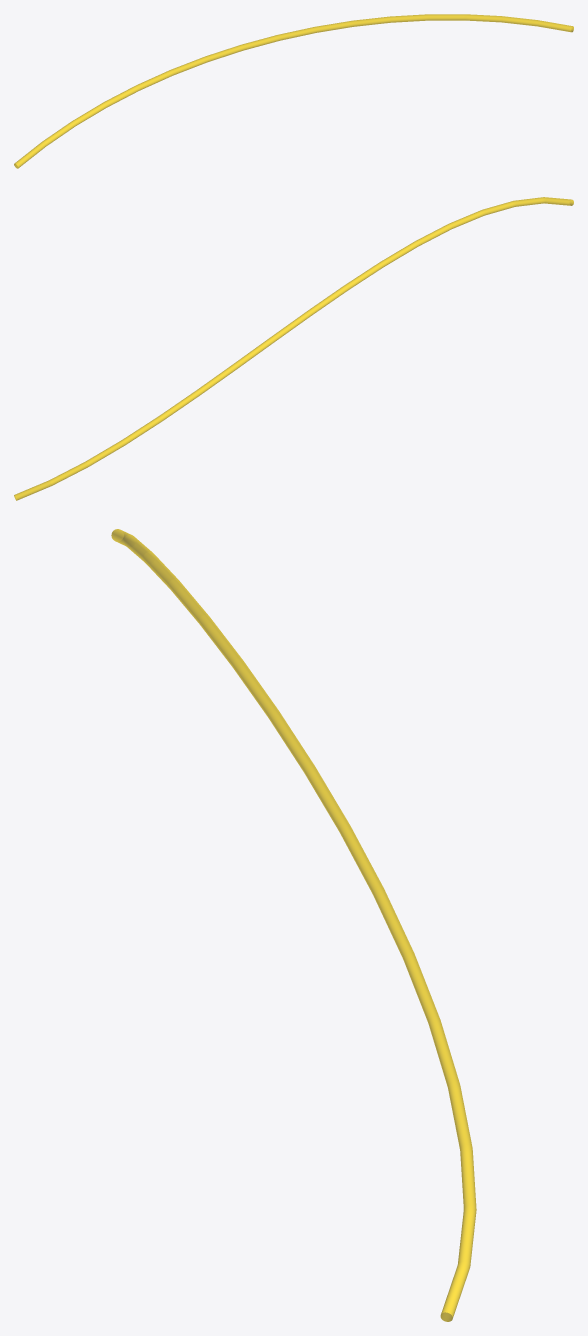
The model's file is Event_75125125_track_85.fbx.
The picture shows the model from 3 angles, top to bottom: view 1: azimuth 30°, elevation 25°; view 2: azimuth 210°, elevation 25°; view 3: azimuth 270°, elevation 25°; orthographic projection. The views are drawn at different scales.
Visible parts, largest first — view 1: Model; view 2: Model; view 3: Model.
Part boxes in pixels (bbox=[...]): Model: bbox=[14, 14, 573, 168]; Model: bbox=[14, 197, 573, 500]; Model: bbox=[111, 529, 476, 1321].
Size of the model in its own units: 4.64 by 0.7754 by 1.15.
